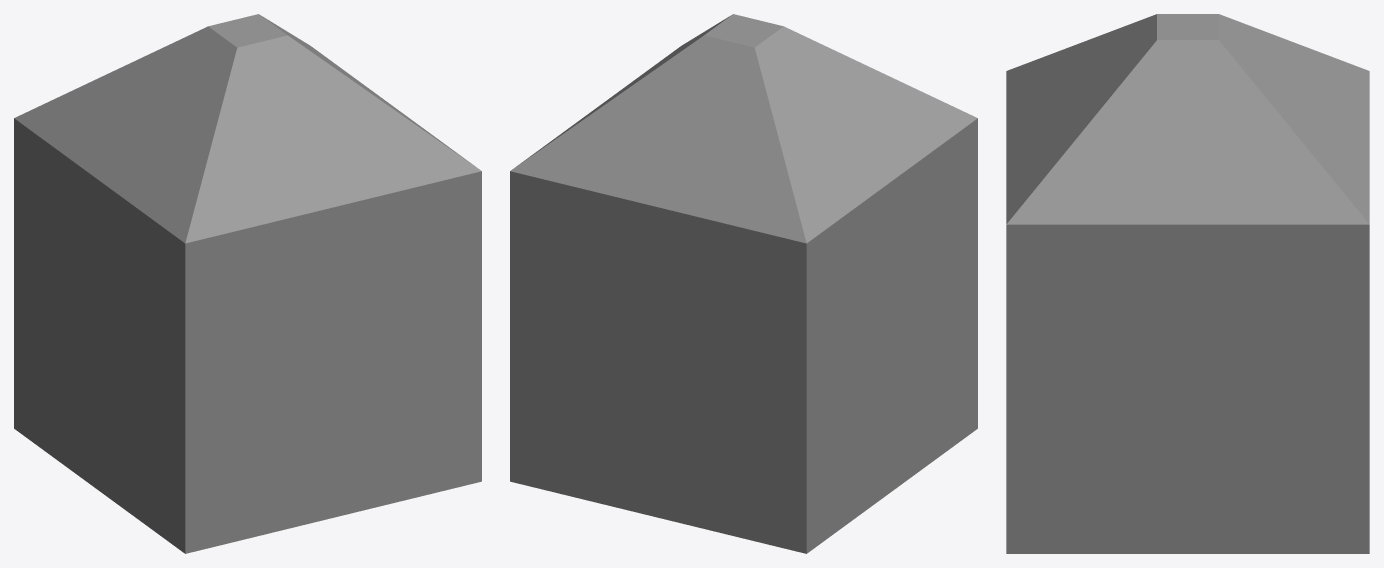
File: SquareBuilding.fbx
3 renders of one model, left to right at view 1: azimuth 30°, elevation 25°; view 2: azimuth 150°, elevation 25°; view 3: azimuth 270°, elevation 25°, orthographic. The views are drawn at different scales.
Parts seen in each view (by area): view 1: SquareBuilding; view 2: SquareBuilding; view 3: SquareBuilding.
Boxes of the visible parts, x1,y1,x2,y2 form: SquareBuilding: (14,14,481,553); SquareBuilding: (510,14,977,553); SquareBuilding: (1006,14,1369,553).
Bounding box in the file's own units: 100 × 100 × 137.
